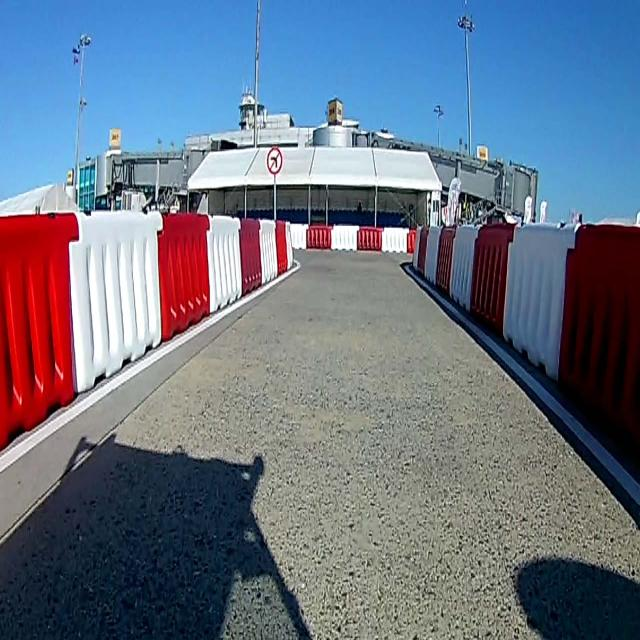soladonulmez: (267, 147, 282, 174)
